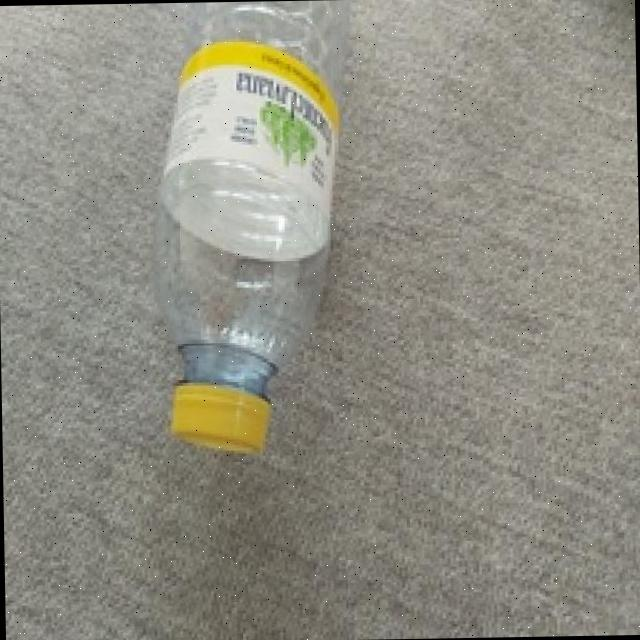bottle: (140, 1, 356, 483)
cap: (169, 374, 274, 457)
label: (154, 39, 361, 214)
